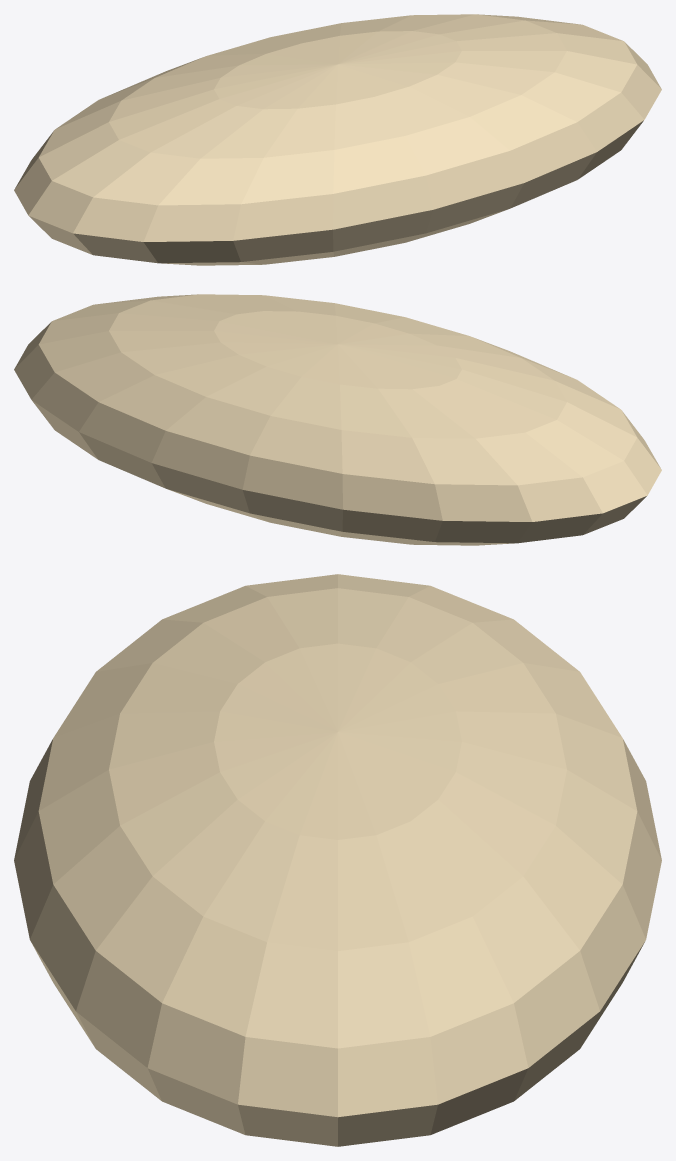
Rendered from duna.glb.
The picture shows the model from 3 angles, top to bottom: view 1: azimuth 30°, elevation 25°; view 2: azimuth 150°, elevation 25°; view 3: azimuth 270°, elevation 25°; orthographic projection. The views are drawn at different scales.
Visible parts, largest first — view 1: duna; view 2: duna; view 3: duna.
Boxes of the visible parts, x1,y1,x2,y2 form: duna: (14, 14, 661, 265); duna: (14, 294, 661, 545); duna: (14, 574, 661, 1146).
Size of the model in its own units: 24 by 5.6 by 12.8.
